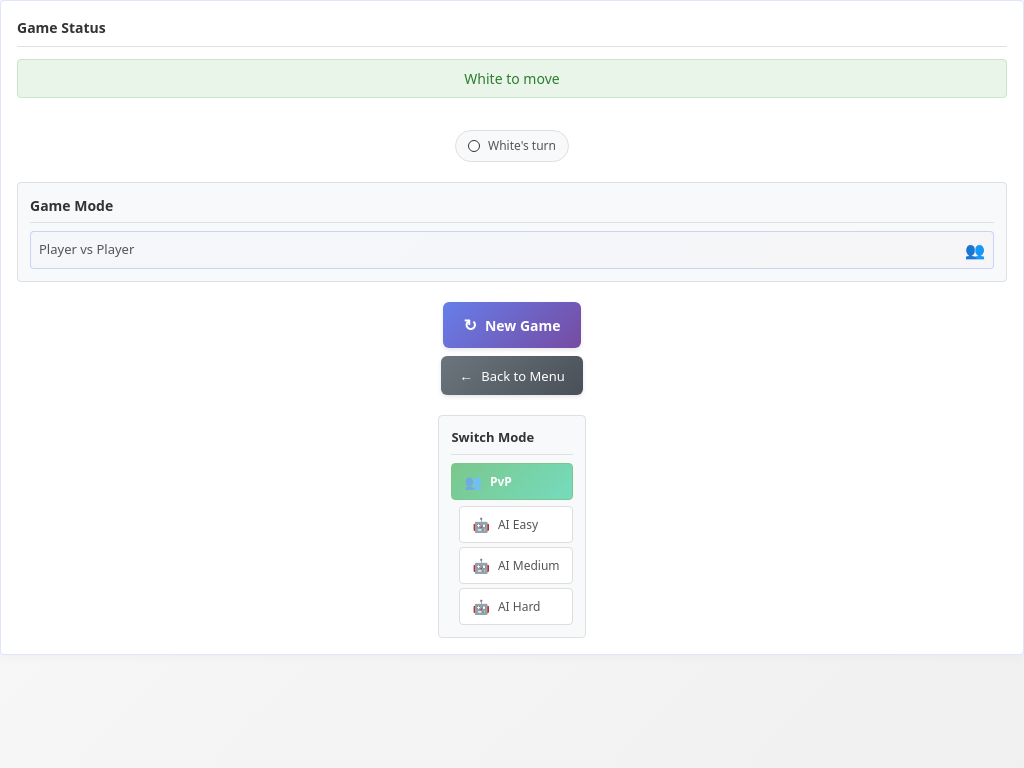
Test: GameControls Enhanced Mode Switching › Mode Change During Game › confirms mode change when user clicks Yes
The image size is (1024, 768).
Click the button with aria-label "Switch to AI mode - Medium difficulty" at x=516, y=565, box [460,546,573,584]
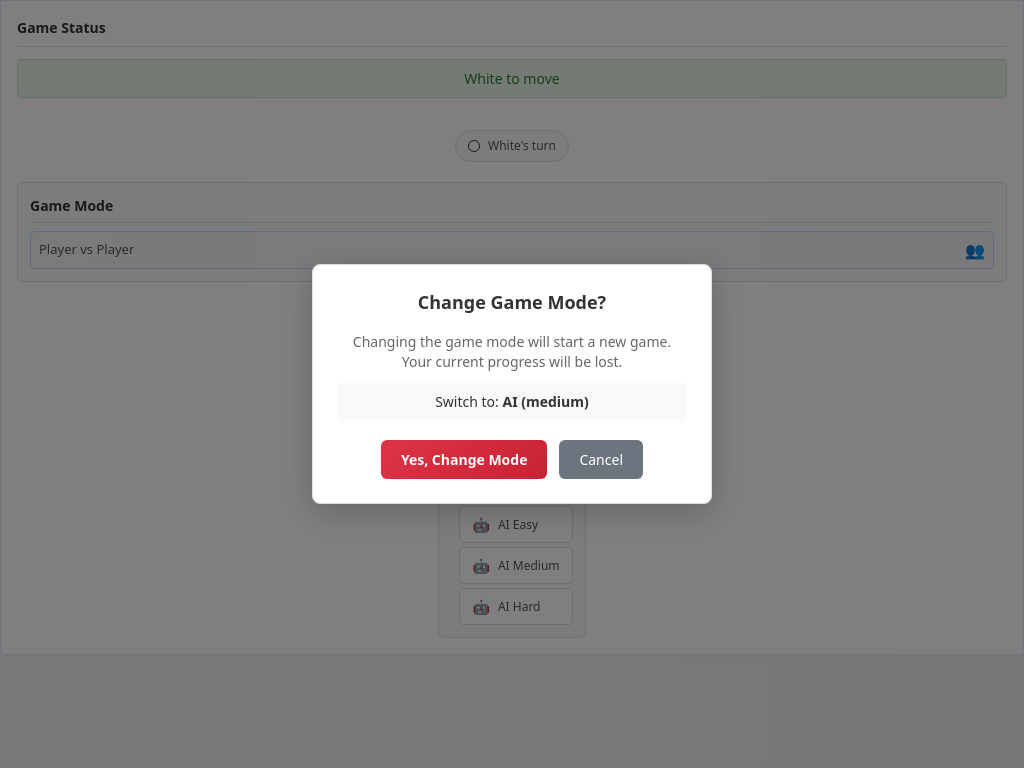
Result: the heading "Change Game Mode?" is shown at [418,290,606,314]
Click the button "Yes, Change Mode" at x=464, y=460, box [381,440,548,479]
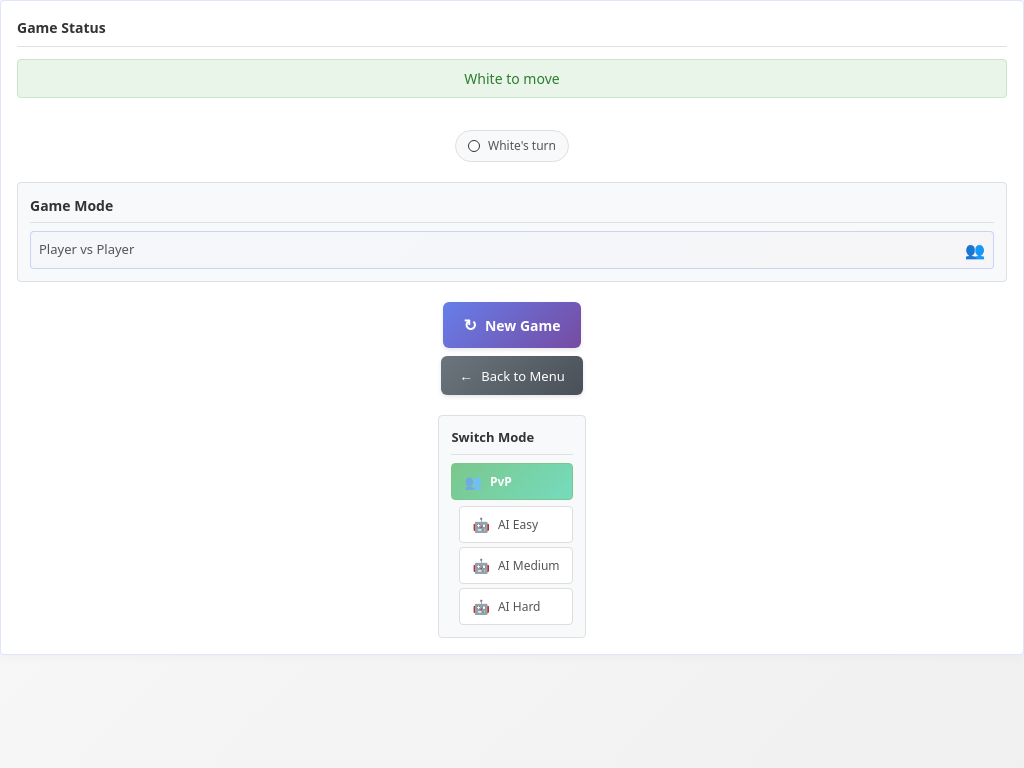
Result: the heading "Change Game Mode?" is gone
